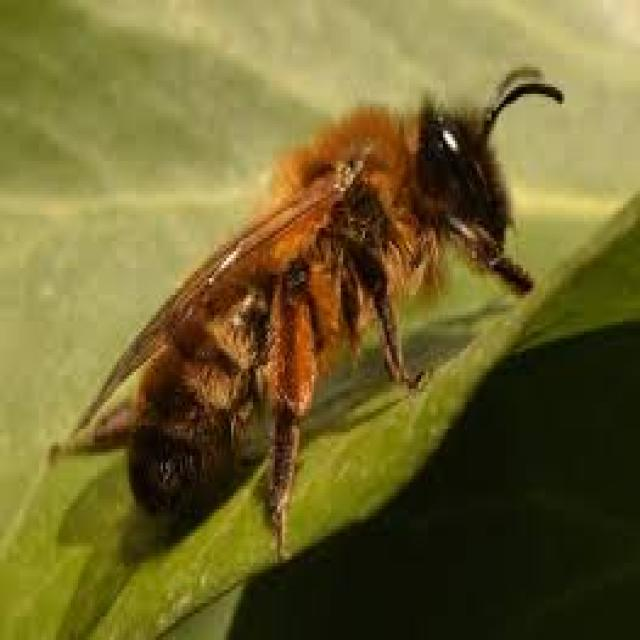Bees: (60, 62, 565, 553)
